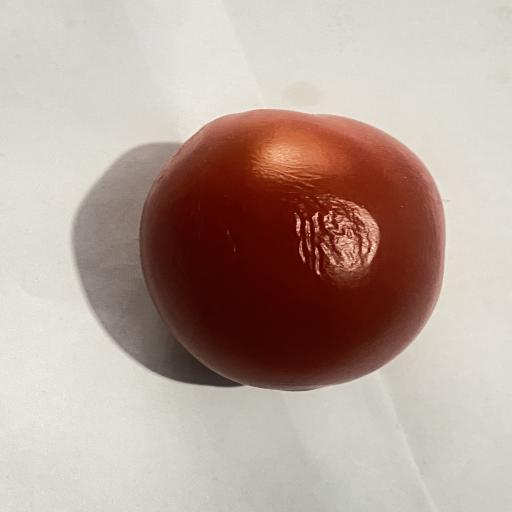overipe: (140, 110, 444, 390)
